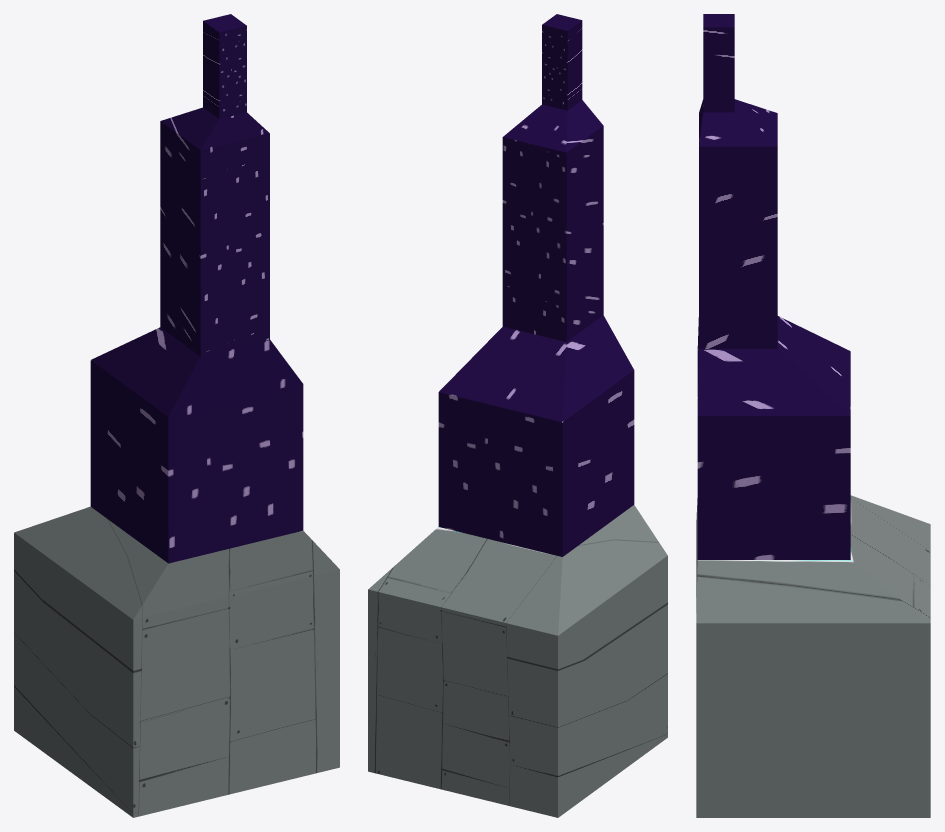
File: Building3.fbx
3 views of the same model, side by side, from view 1: azimuth 30°, elevation 25°; view 2: azimuth 150°, elevation 25°; view 3: azimuth 270°, elevation 25° (orthographic). The views are drawn at different scales.
Visible parts, largest first — view 1: Cube.003; view 2: Cube.003; view 3: Cube.003.
Part boxes in pixels (<box>): Cube.003: <box>14,14,339,817</box>; Cube.003: <box>368,14,667,817</box>; Cube.003: <box>696,14,930,817</box>.
Size of the model in its own units: 600 by 2112 by 600.
1 material, 1 textured.
